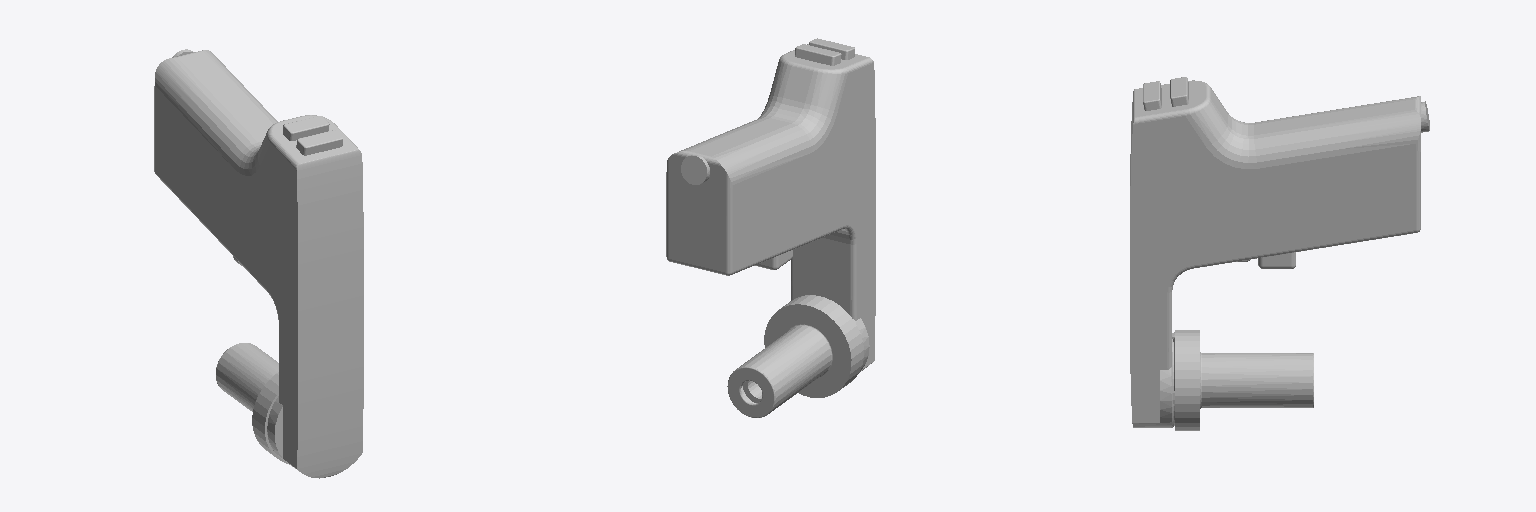
Rendered from pipette_aspirate.obj.
3 renders of one model, left to right at view 1: azimuth 30°, elevation 25°; view 2: azimuth 150°, elevation 25°; view 3: azimuth 270°, elevation 25°, orthographic.
Parts seen in each view (by area): view 1: Body1:4, Body1:2; view 2: Body1:4, Body1:2; view 3: Body1:4, Body1:2.
Boxes of the visible parts, <box> form: Body1:4: <box>154,49,363,478</box>; Body1:2: <box>216,343,289,464</box>; Body1:4: <box>666,38,875,372</box>; Body1:2: <box>727,295,863,417</box>; Body1:4: <box>1130,77,1429,427</box>; Body1:2: <box>1175,330,1313,430</box>.
Size of the model in its own units: 3.99 by 14.86 by 11.91.